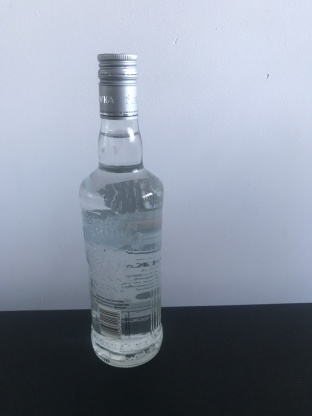nakretka: (95, 51, 140, 121)
